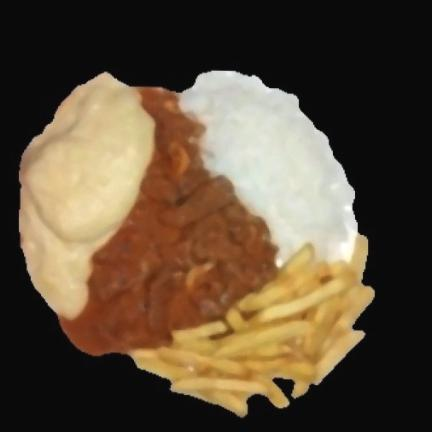potato: (131, 238, 372, 416), (19, 73, 155, 319)
rice: (179, 71, 357, 265)
